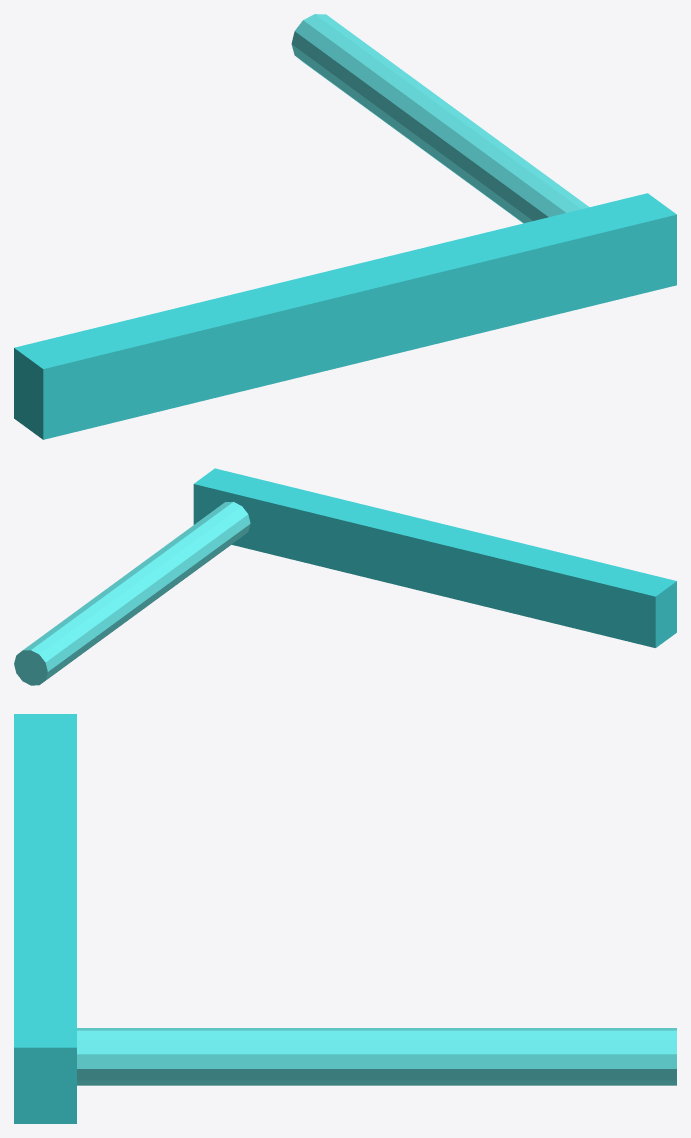
The model's file is gutter-downspout.glb.
The picture shows the model from 3 angles, top to bottom: view 1: azimuth 30°, elevation 25°; view 2: azimuth 150°, elevation 25°; view 3: azimuth 270°, elevation 25°; orthographic projection. The views are drawn at different scales.
Visible parts, largest first — view 1: world; view 2: world; view 3: world.
Boxes of the visible parts, <box> form: world: <box>14,14,676,439</box>; world: <box>14,468,676,685</box>; world: <box>14,714,676,1123</box>.
Bounding box in the file's own units: 1.5 × 0.16 × 1.26.
